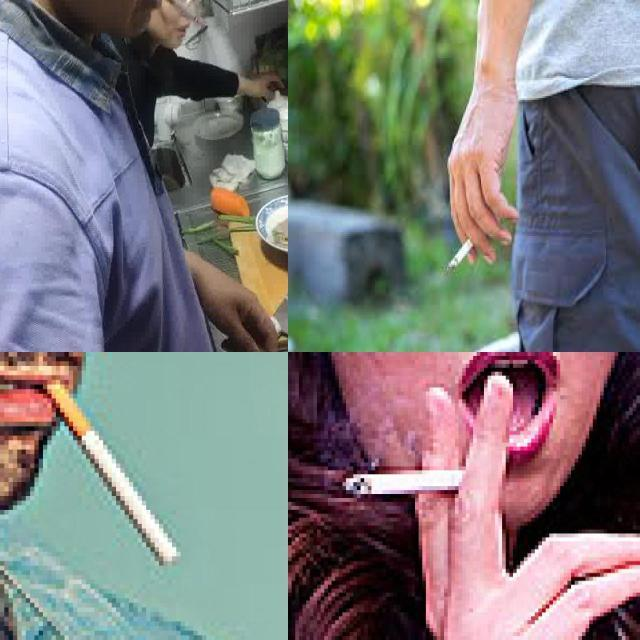smoking: (43, 375, 181, 561), (332, 462, 454, 494), (158, 0, 205, 29), (448, 234, 478, 272)
